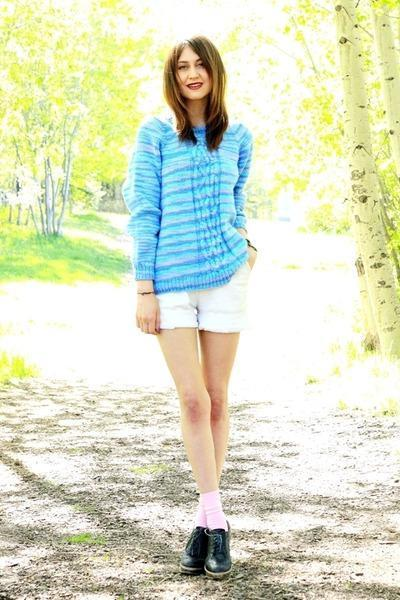jacket: (117, 119, 251, 294)
shoe: (180, 527, 239, 581)
shorts: (157, 263, 266, 332)
